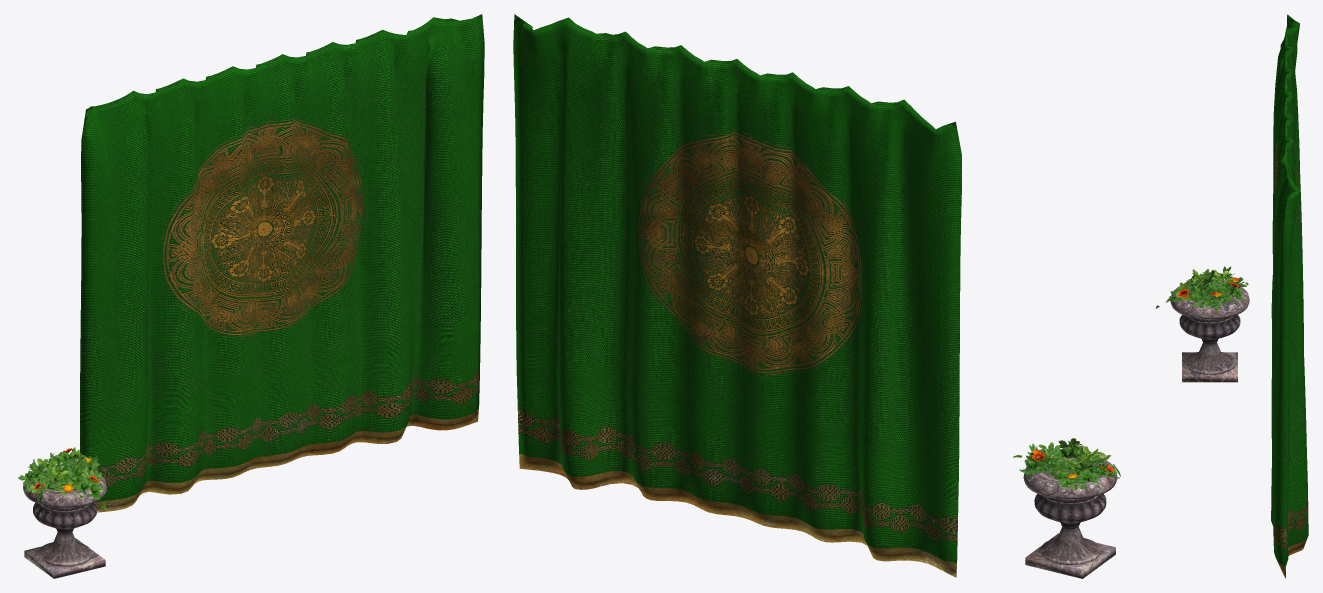
The picture shows the model from 3 angles, left to right: view 1: azimuth 30°, elevation 25°; view 2: azimuth 150°, elevation 25°; view 3: azimuth 270°, elevation 25°; orthographic projection. The views are drawn at different scales.
Visible parts, largest first — view 1: sponza:sponza_327, sponza:sponza_01; view 2: sponza:sponza_327, sponza:sponza_01; view 3: sponza:sponza_327, sponza:sponza_01.
Boxes of the visible parts, x1,y1,x2,y2 form: sponza:sponza_327: (80,14,484,512); sponza:sponza_01: (18,447,106,578); sponza:sponza_327: (513,14,961,577); sponza:sponza_01: (1013,438,1120,578); sponza:sponza_327: (1271,14,1308,578); sponza:sponza_01: (1155,266,1249,382).
Size of the model in its own units: 360 by 283 by 100.
Materials: 3 (3 with a texture image).
